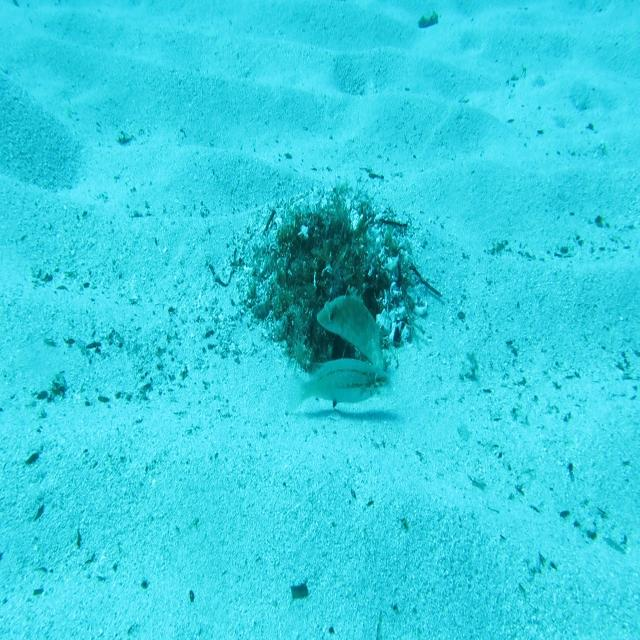BEND: (316, 283, 391, 389)
core_nest: (304, 220, 354, 267)
female: (284, 355, 392, 417)
nest: (225, 175, 434, 402)
vegetation: (288, 582, 310, 600), (417, 12, 440, 28)
